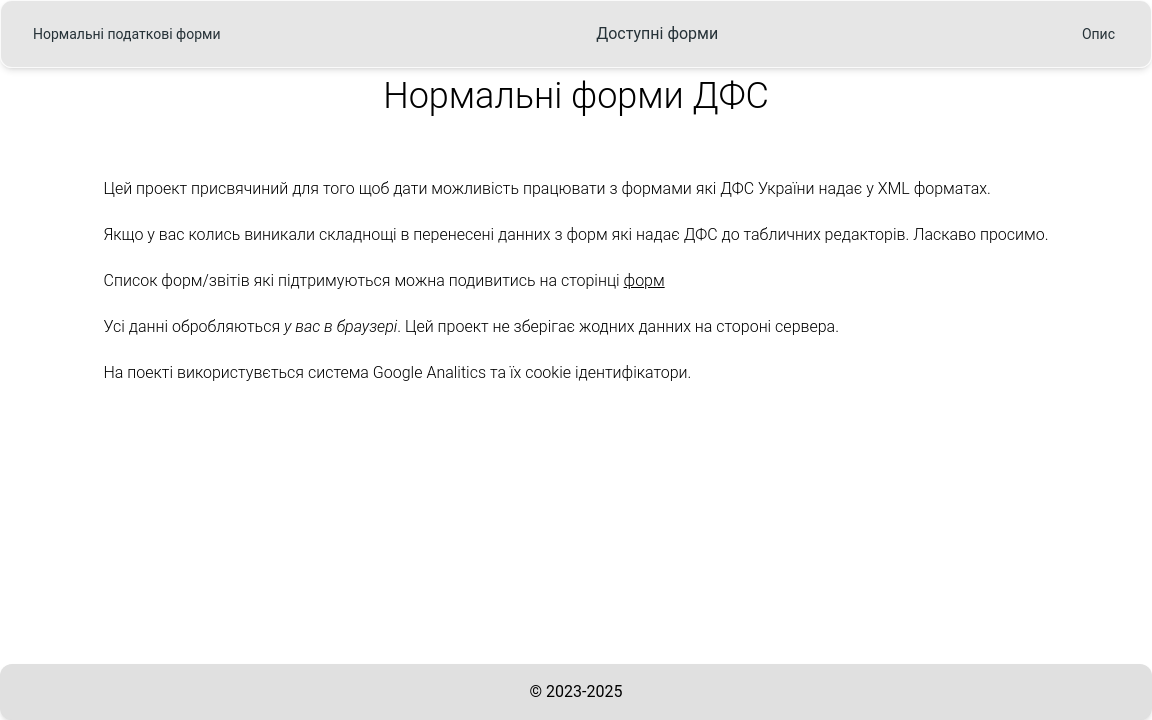
Test case: AppRouter component › topnav links work well
Click the link "Доступні форми" at (657, 34), box x1=596 y1=21 x2=718 y2=47
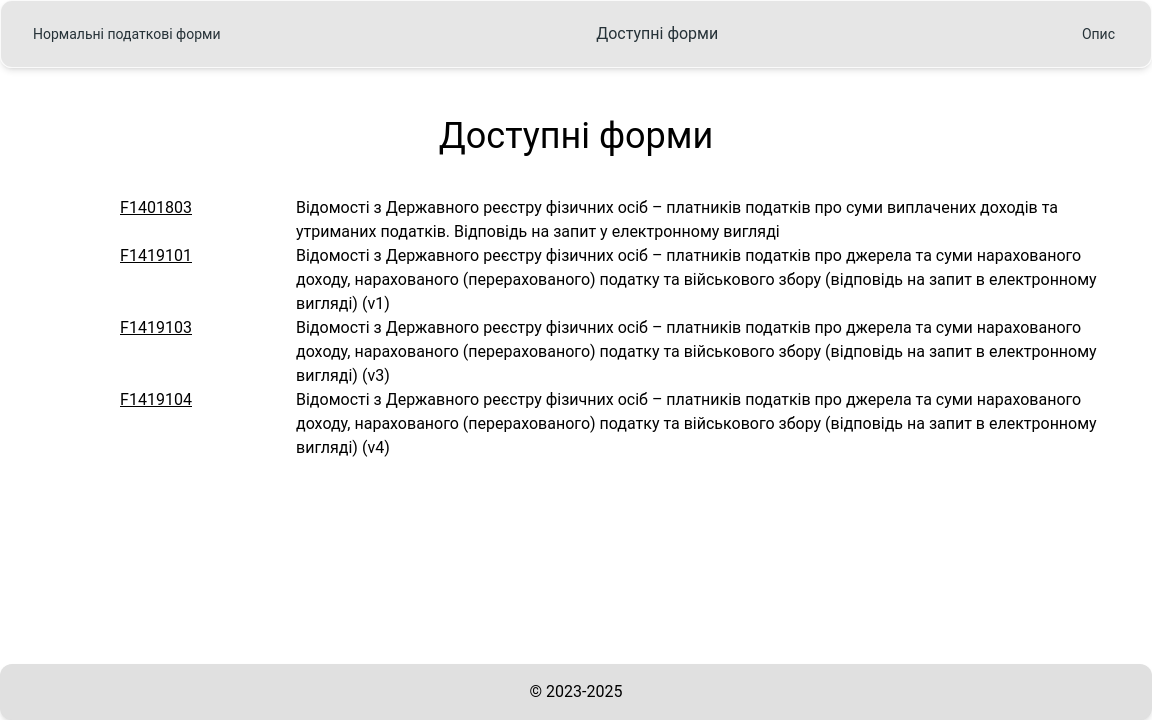
Check: the heading "Доступні форми" is shown, box x1=439 y1=115 x2=713 y2=157
Click the link "Опис" at (1098, 34), box x1=1082 y1=24 x2=1115 y2=44
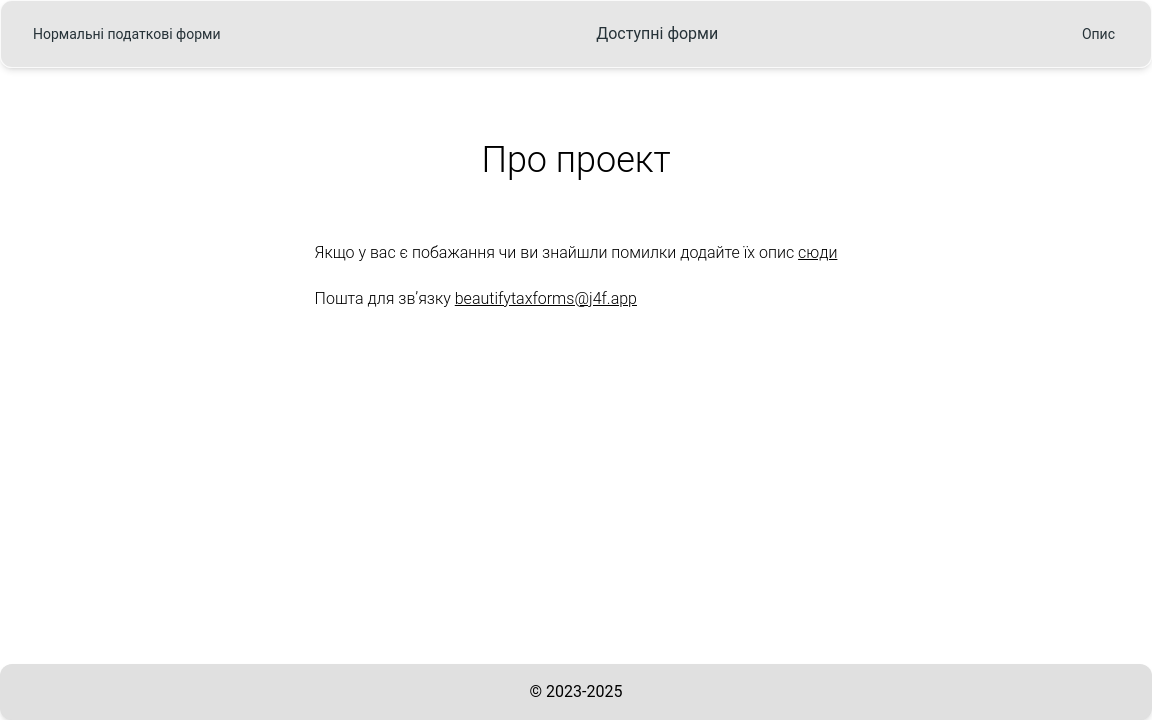
Check: the heading "Про проект" is shown, box x1=481 y1=139 x2=670 y2=181
Click the link "Нормальні податкові форми" at (127, 34), box x1=33 y1=26 x2=220 y2=42
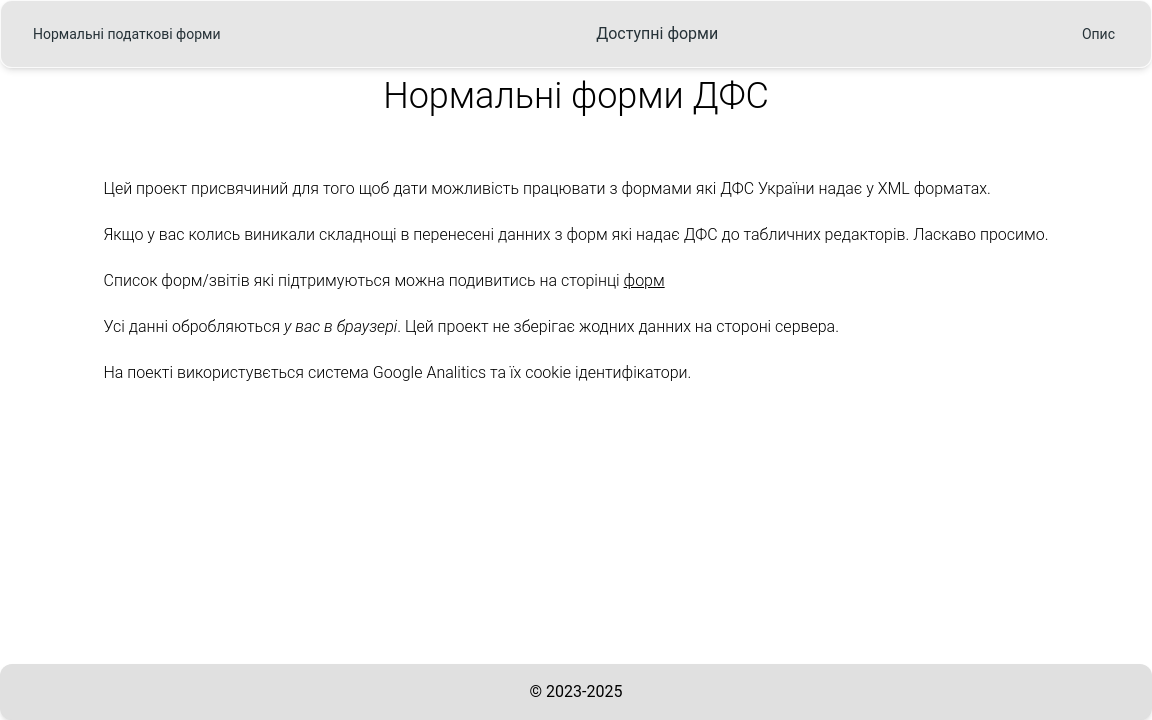
Check: the heading "Нормальні форми ДФС" is shown, box x1=383 y1=75 x2=769 y2=117
